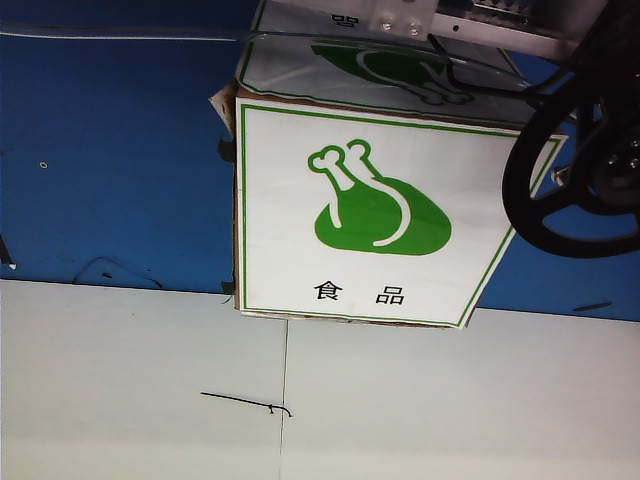Cube_food: (303, 132, 462, 322)
